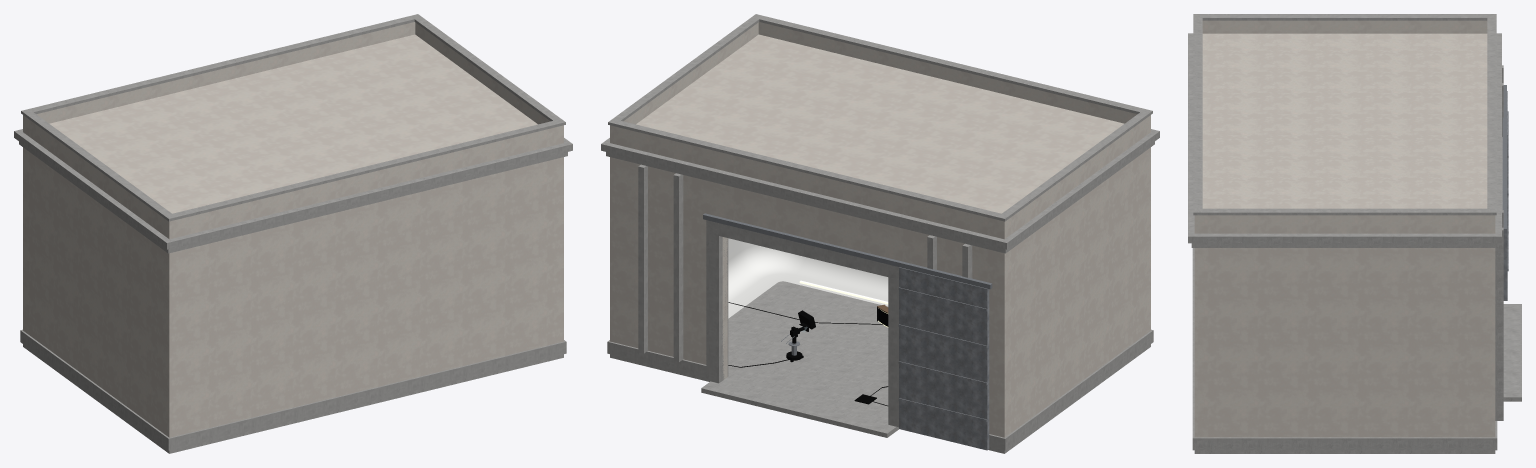
The model's file is hall_studio.glb.
3 renders of one model, left to right at view 1: azimuth 30°, elevation 25°; view 2: azimuth 150°, elevation 25°; view 3: azimuth 270°, elevation 25°, orthographic. The views are drawn at different scales.
Visible parts, largest first — view 1: Shell, Trim, Floor; view 2: Shell, Trim, Floor, StudioDoor, Cyclorama, Rig; view 3: Shell, Trim, Floor, Rig, StudioDoor.
Boxes of the visible parts, x1,y1,x2,y2 form: Shell: (23,22,563,437); Trim: (14,14,572,450); Floor: (23,344,563,453); Shell: (610,22,1150,437); Trim: (601,14,1159,450); Floor: (610,281,1150,453); StudioDoor: (898,267,989,450); Cyclorama: (728,238,888,318); Rig: (703,213,992,289); Shell: (1194,20,1495,437); Trim: (1188,14,1503,450); Floor: (1194,304,1521,453); Rig: (1502,85,1506,233); StudioDoor: (1503,91,1508,300).
Bounding box in the file's own units: 28.8 × 15.98 × 20.
10 materials, 6 textured.
